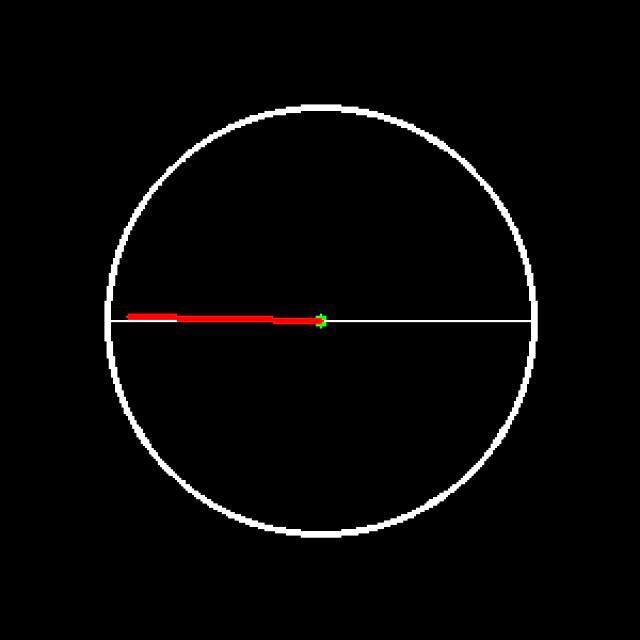Needle_Tip: (118, 299, 178, 348)
Needle_base: (305, 304, 336, 342)
